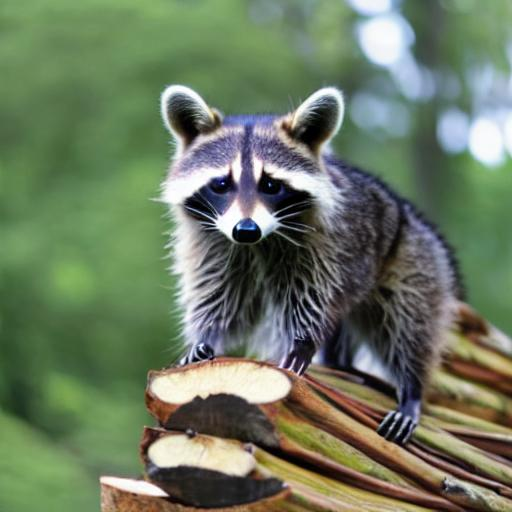raccoon: (146, 71, 457, 357)
